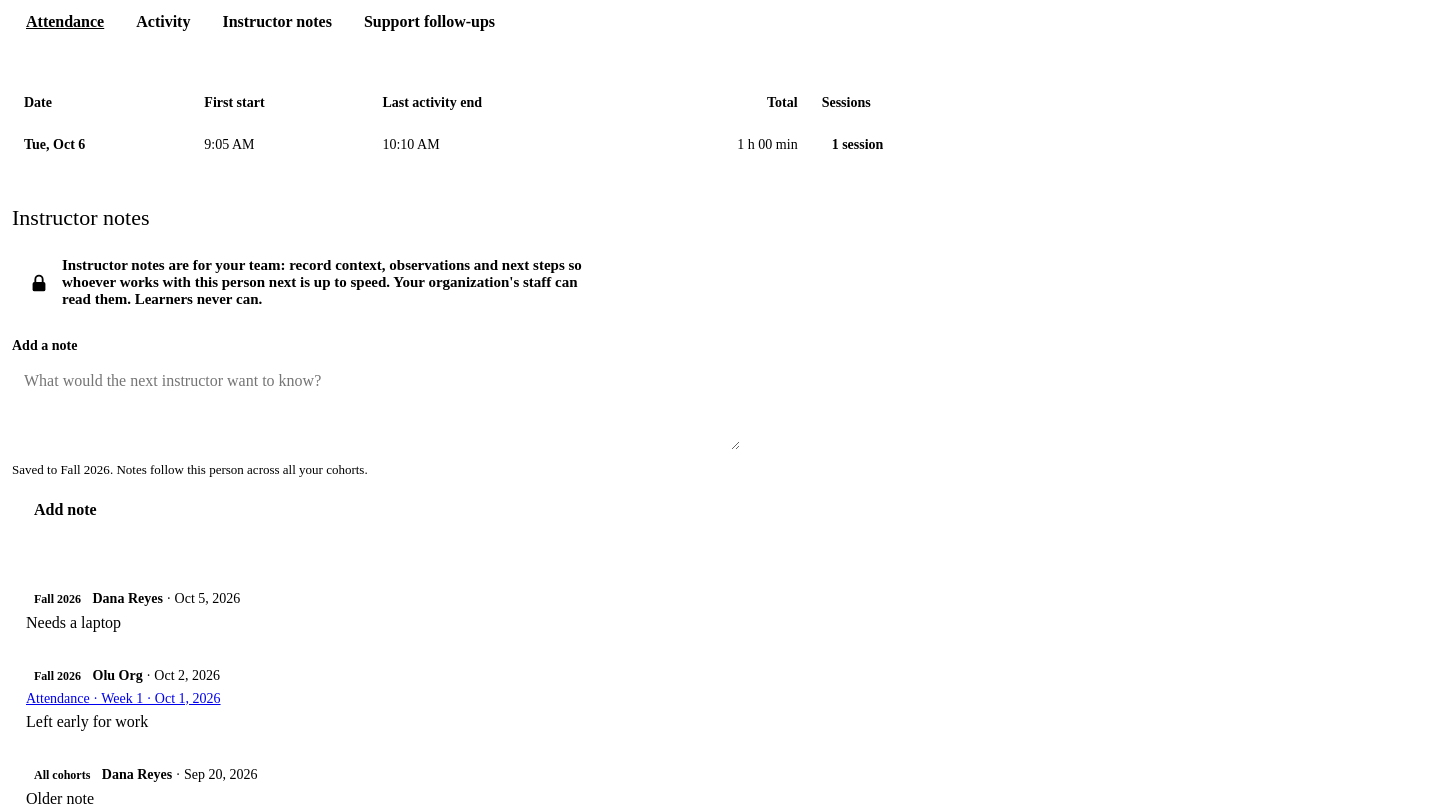
Test: LearnerRecordPage › adds a note through the existing notes endpoint, saved with this cohort, and shows it first
(page scrolled)
Expected: the text "Saved to Fall 2026. Notes follow this person across all your cohorts." is shown, x1=12 y1=462 x2=368 y2=477
In the text box labelled "Add a note": (376, 405) x1=12 y1=360 x2=740 y2=450, type "Called today"
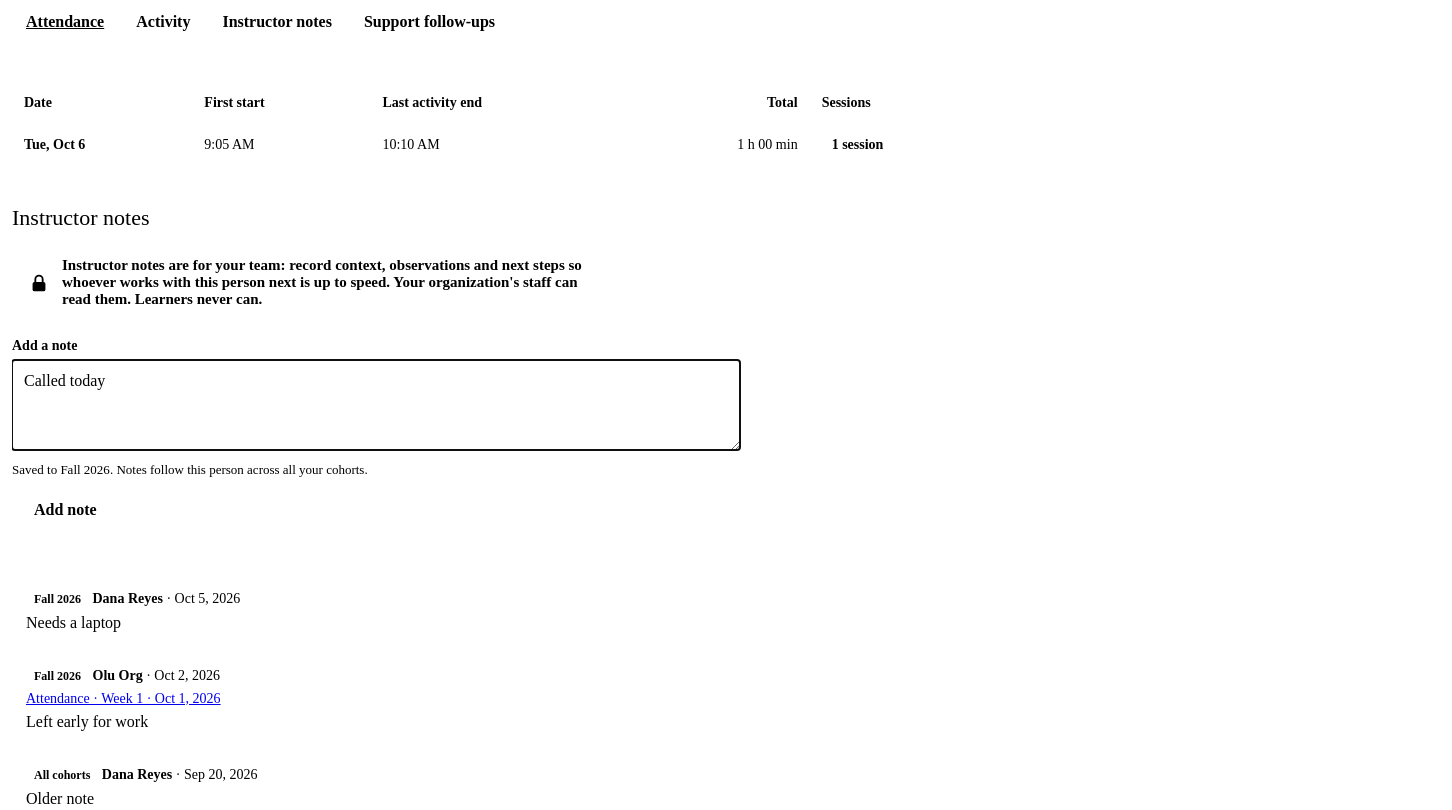
Click the button "Add note": (65, 510) x1=12 y1=490 x2=119 y2=530
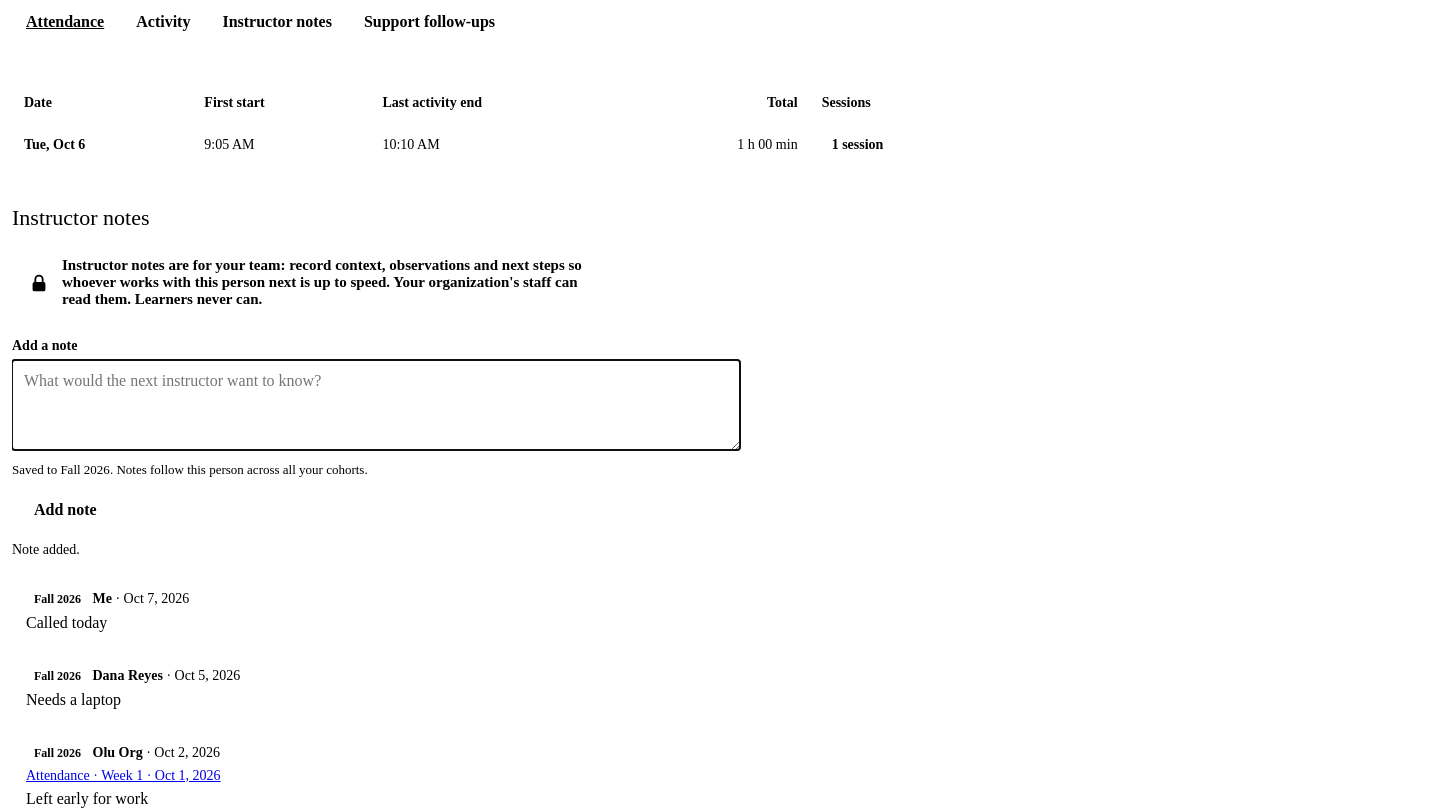
Now the text "Called today" is shown, box x1=26 y1=614 x2=107 y2=631
Now the list item "Fall 2026 Me · Oct 7, 2026 Called today" is shown, box x1=12 y1=579 x2=1012 y2=644
Now the message reads "Note added.", box x1=12 y1=542 x2=80 y2=557
